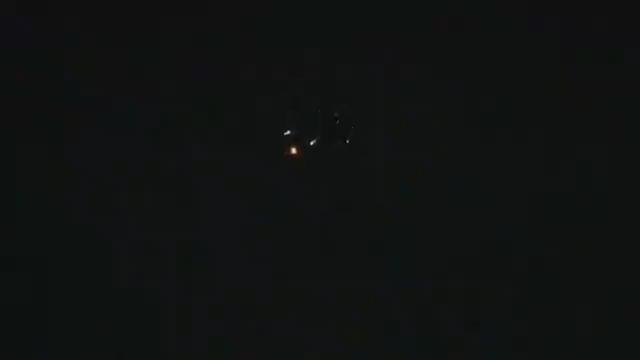Plane: (224, 119, 384, 172)
